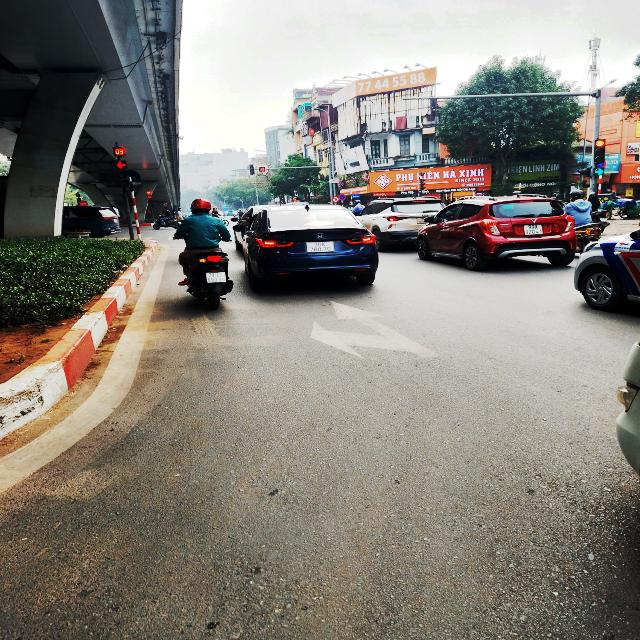license_plate: (307, 242, 335, 254), (206, 273, 228, 284), (525, 225, 544, 237)
